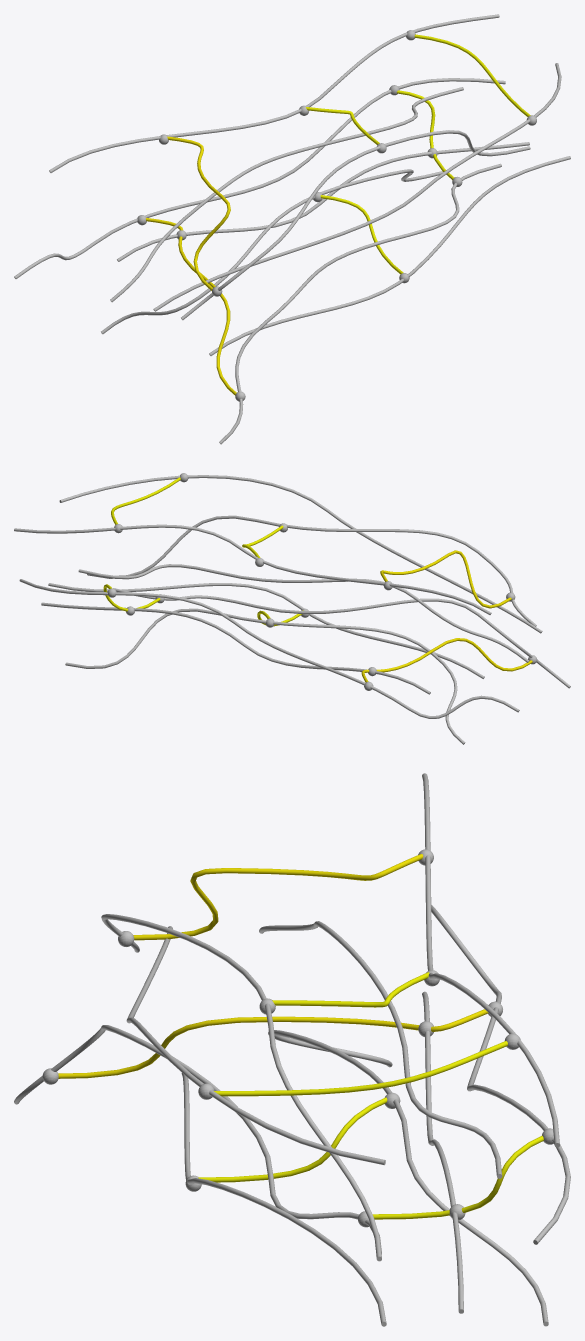
The model's file is Elastomer_Nudel.gltf.
3 views of the same model, one above another, from view 1: azimuth 30°, elevation 25°; view 2: azimuth 150°, elevation 25°; view 3: azimuth 270°, elevation 25° (orthographic). The views are drawn at different scales.
Visible parts, largest first — view 1: BezierCurve.004, BezierCurve.011, BezierCurve.009, BezierCurve.001, BezierCurve.010, BezierCurve.008, BezierCurve.002, BezierCurve.003, BezierCurve, BezierCurve.013, BezierCurve.007, BezierCurve.014; view 2: BezierCurve.004, BezierCurve.011, BezierCurve.009, BezierCurve.003, BezierCurve.008, BezierCurve.001, BezierCurve.010, BezierCurve.002, BezierCurve, BezierCurve.007, BezierCurve.013; view 3: BezierCurve.008, BezierCurve.003, BezierCurve.007, BezierCurve.009, BezierCurve.001, BezierCurve.004, BezierCurve.010, BezierCurve.011, BezierCurve.002, BezierCurve.013, BezierCurve, BezierCurve.014 (+3 smaller).
Part boxes in pixels (<box>): BezierCurve.004: <box>14,78,505,278</box>; BezierCurve.011: <box>153,63,561,311</box>; BezierCurve.009: <box>49,14,499,172</box>; BezierCurve.001: <box>219,163,501,444</box>; BezierCurve.010: <box>110,87,463,302</box>; BezierCurve.008: <box>181,130,530,320</box>; BezierCurve.002: <box>209,156,570,355</box>; BezierCurve.003: <box>101,169,443,334</box>; BezierCurve: <box>117,142,529,261</box>; BezierCurve.013: <box>167,136,230,290</box>; BezierCurve.007: <box>146,218,236,395</box>; BezierCurve.014: <box>414,34,530,116</box>; BezierCurve.004: <box>19,579,519,718</box>; BezierCurve.011: <box>59,475,542,633</box>; BezierCurve.009: <box>14,524,491,614</box>; BezierCurve.003: <box>65,608,465,744</box>; BezierCurve.008: <box>87,515,536,626</box>; BezierCurve.001: <box>113,588,570,688</box>; BezierCurve.010: <box>78,564,529,662</box>; BezierCurve.002: <box>48,583,484,678</box>; BezierCurve: <box>41,602,430,694</box>; BezierCurve.007: <box>361,638,532,682</box>; BezierCurve.013: <box>380,550,511,608</box>; BezierCurve.008: <box>101,914,381,1261</box>; BezierCurve.003: <box>268,1030,548,1326</box>; BezierCurve.007: <box>58,1009,488,1078</box>; BezierCurve.009: <box>422,773,559,1147</box>; BezierCurve.001: <box>14,1025,381,1254</box>; BezierCurve.004: <box>431,905,570,1244</box>; BezierCurve.010: <box>259,921,502,1178</box>; BezierCurve.011: <box>126,926,385,1165</box>; BezierCurve.002: <box>181,1073,386,1326</box>; BezierCurve.013: <box>133,854,423,940</box>; BezierCurve: <box>422,991,463,1313</box>; BezierCurve.014: <box>214,1041,507,1096</box>.
Bounding box in the file's own units: 3.25 × 1.24 × 1.84.
